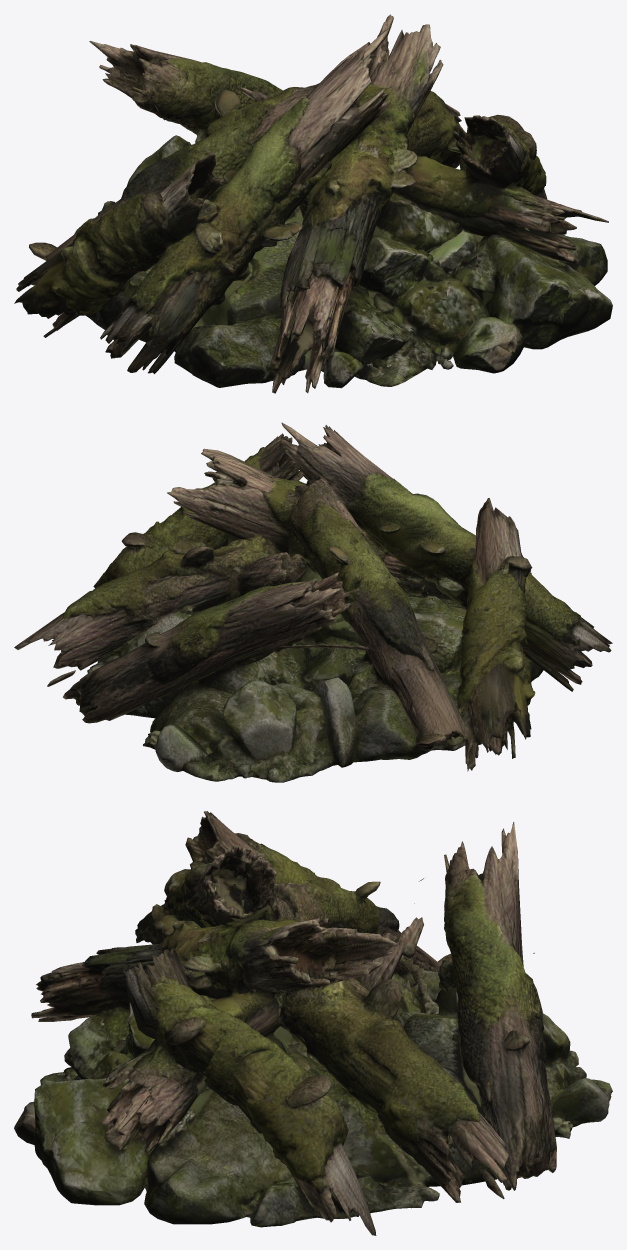
File: Mossy_Timber_Ruins.glb
3 views of the same model, one above another, from view 1: azimuth 30°, elevation 25°; view 2: azimuth 150°, elevation 25°; view 3: azimuth 270°, elevation 25° (orthographic). The views are drawn at different scales.
Visible parts, largest first — view 1: Mossy_Timber_Ruins; view 2: Mossy_Timber_Ruins; view 3: Mossy_Timber_Ruins.
Boxes of the visible parts, <box> form: Mossy_Timber_Ruins: <box>14,14,612,393</box>; Mossy_Timber_Ruins: <box>14,422,612,782</box>; Mossy_Timber_Ruins: <box>14,811,612,1235</box>.
Bounding box in the file's own units: 1.9 × 0.9384 × 1.78.
Materials: 1 (1 with a texture image).
